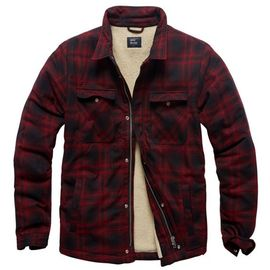squared: (8, 4, 261, 263)
